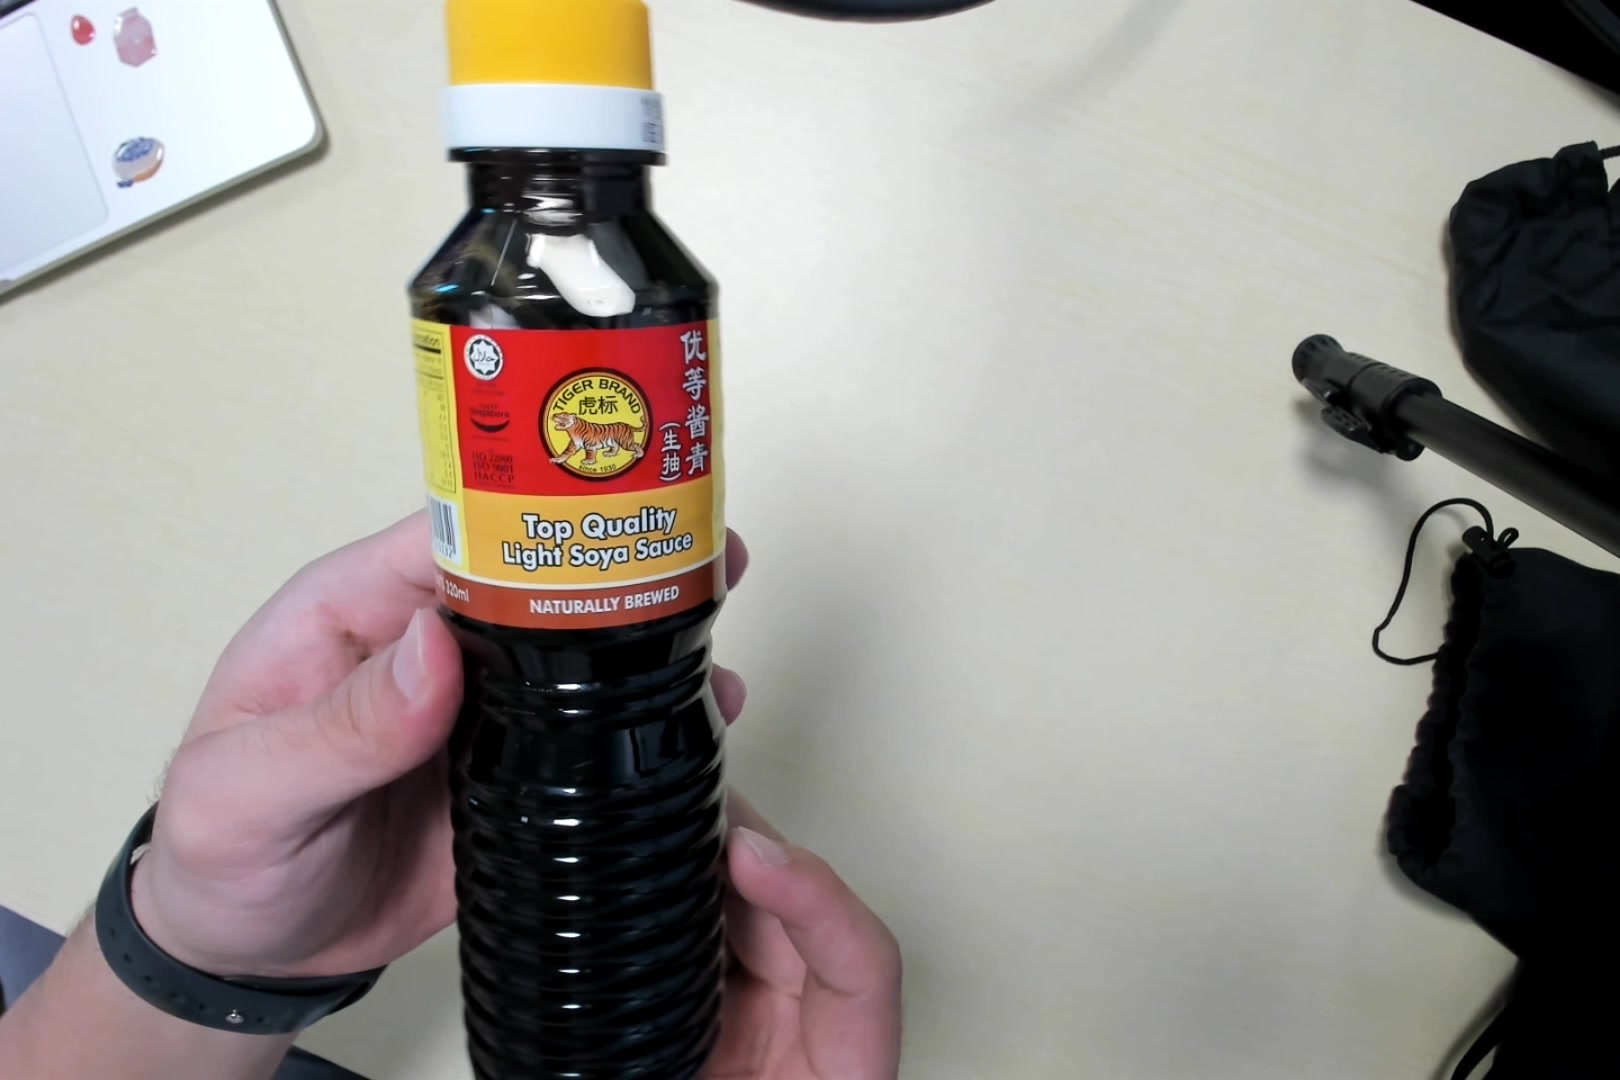LightSoySauce_300-399g_Halal_NonHealthy: (407, 2, 732, 1080)
